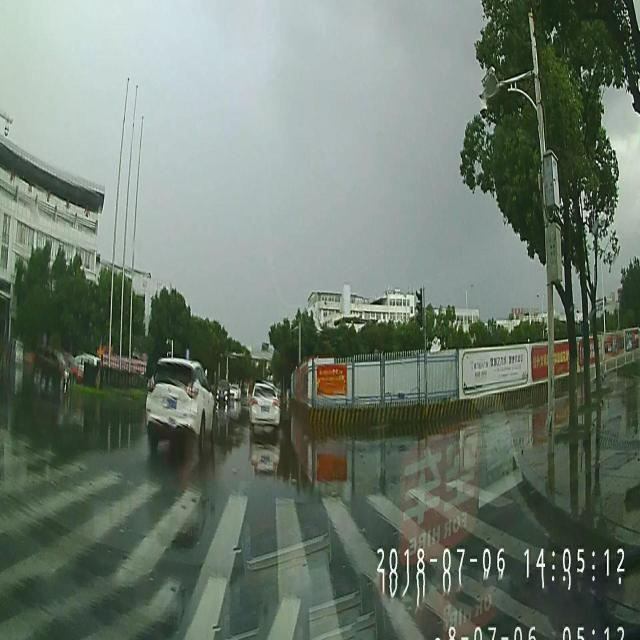car: (145, 356, 214, 452), (33, 342, 72, 396), (248, 382, 280, 428), (217, 378, 230, 406), (228, 384, 242, 400)
